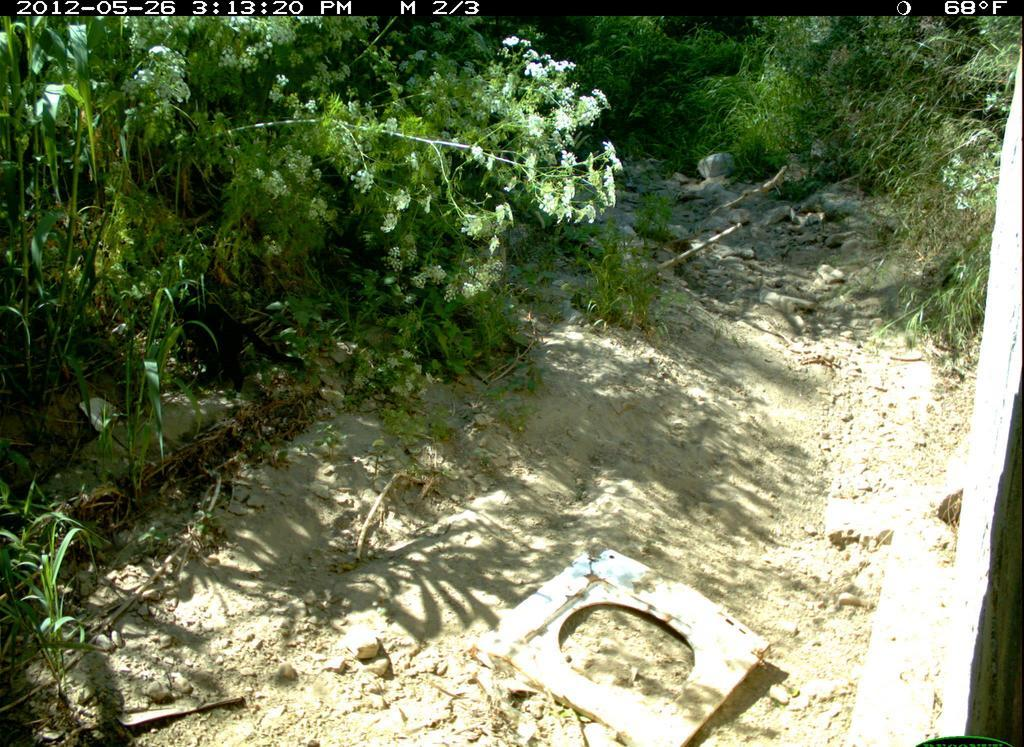cat: (164, 292, 306, 399)
